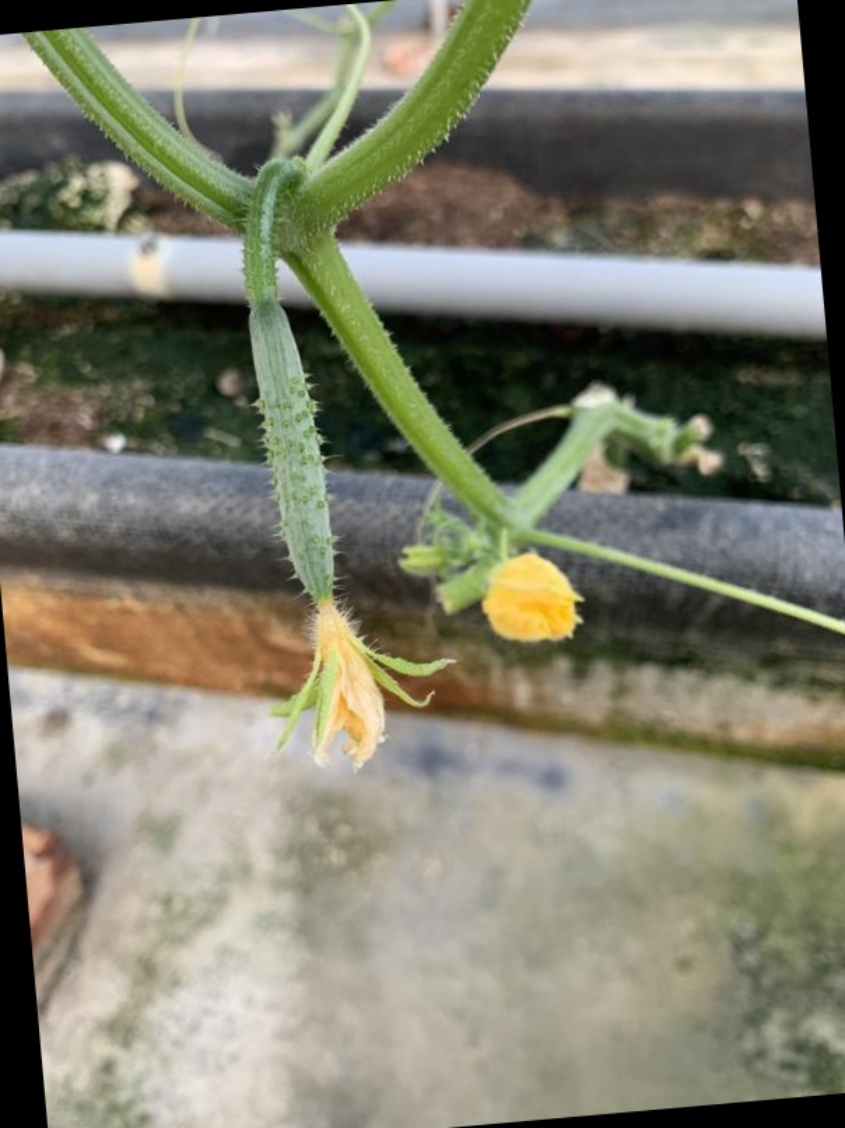bear: (214, 278, 445, 784)
